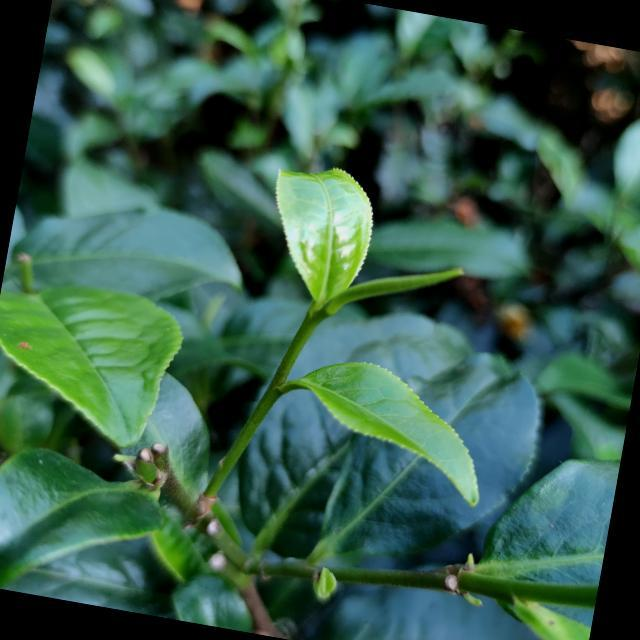Stem: (304, 316, 317, 331)
